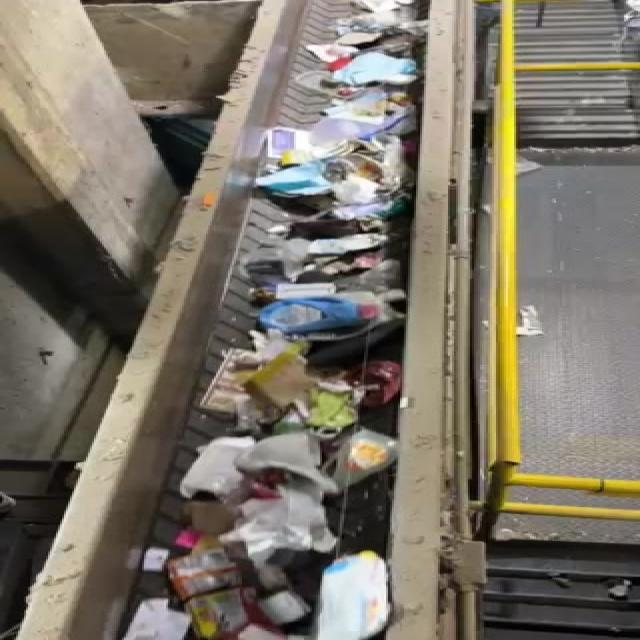hdpe: (315, 551, 405, 640), (320, 419, 392, 505)
paper: (235, 497, 337, 552)
pp: (150, 554, 269, 637)
ps: (170, 422, 269, 502)
